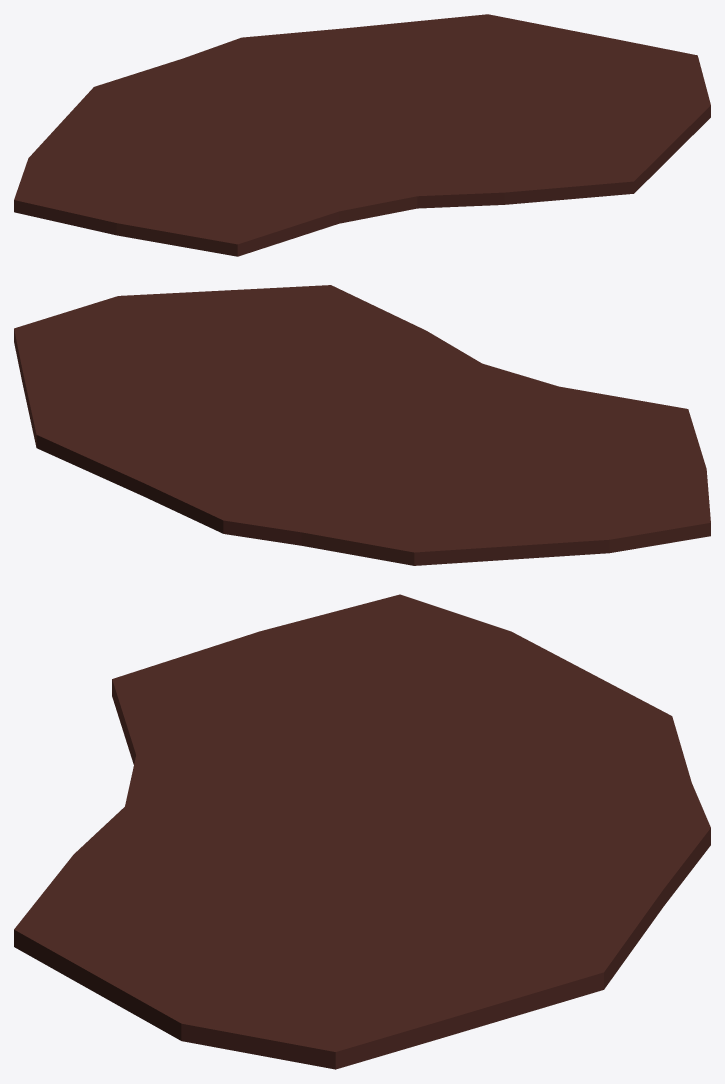
File: puddleOfCoffe2.fbx
The picture shows the model from 3 angles, top to bottom: view 1: azimuth 30°, elevation 25°; view 2: azimuth 150°, elevation 25°; view 3: azimuth 270°, elevation 25°; orthographic projection. The views are drawn at different scales.
Parts seen in each view (by area): view 1: Plane; view 2: Plane; view 3: Plane.
Boxes of the visible parts, x1,y1,x2,y2 form: Plane: (14,14,710,256); Plane: (14,285,710,565); Plane: (14,594,710,1069).
Bounding box in the file's own units: 67.43 × 1.2 × 43.39.
